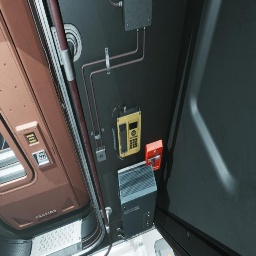EmergencyPhone ,: (112, 103, 141, 160)
FireAlarm ,: (144, 140, 163, 171)
